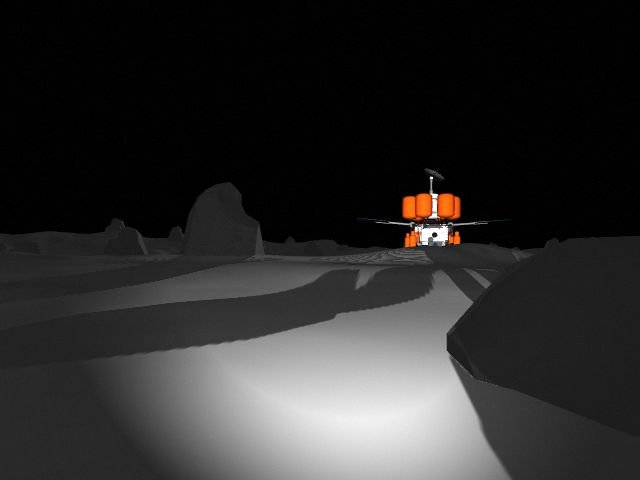homebase: (354, 166, 505, 258)
